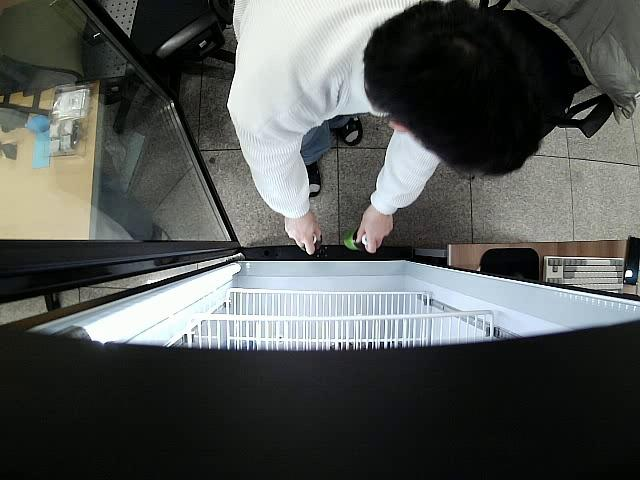00_hand: (285, 211, 324, 259), (356, 211, 394, 256)
19_17cha: (341, 224, 371, 255)
